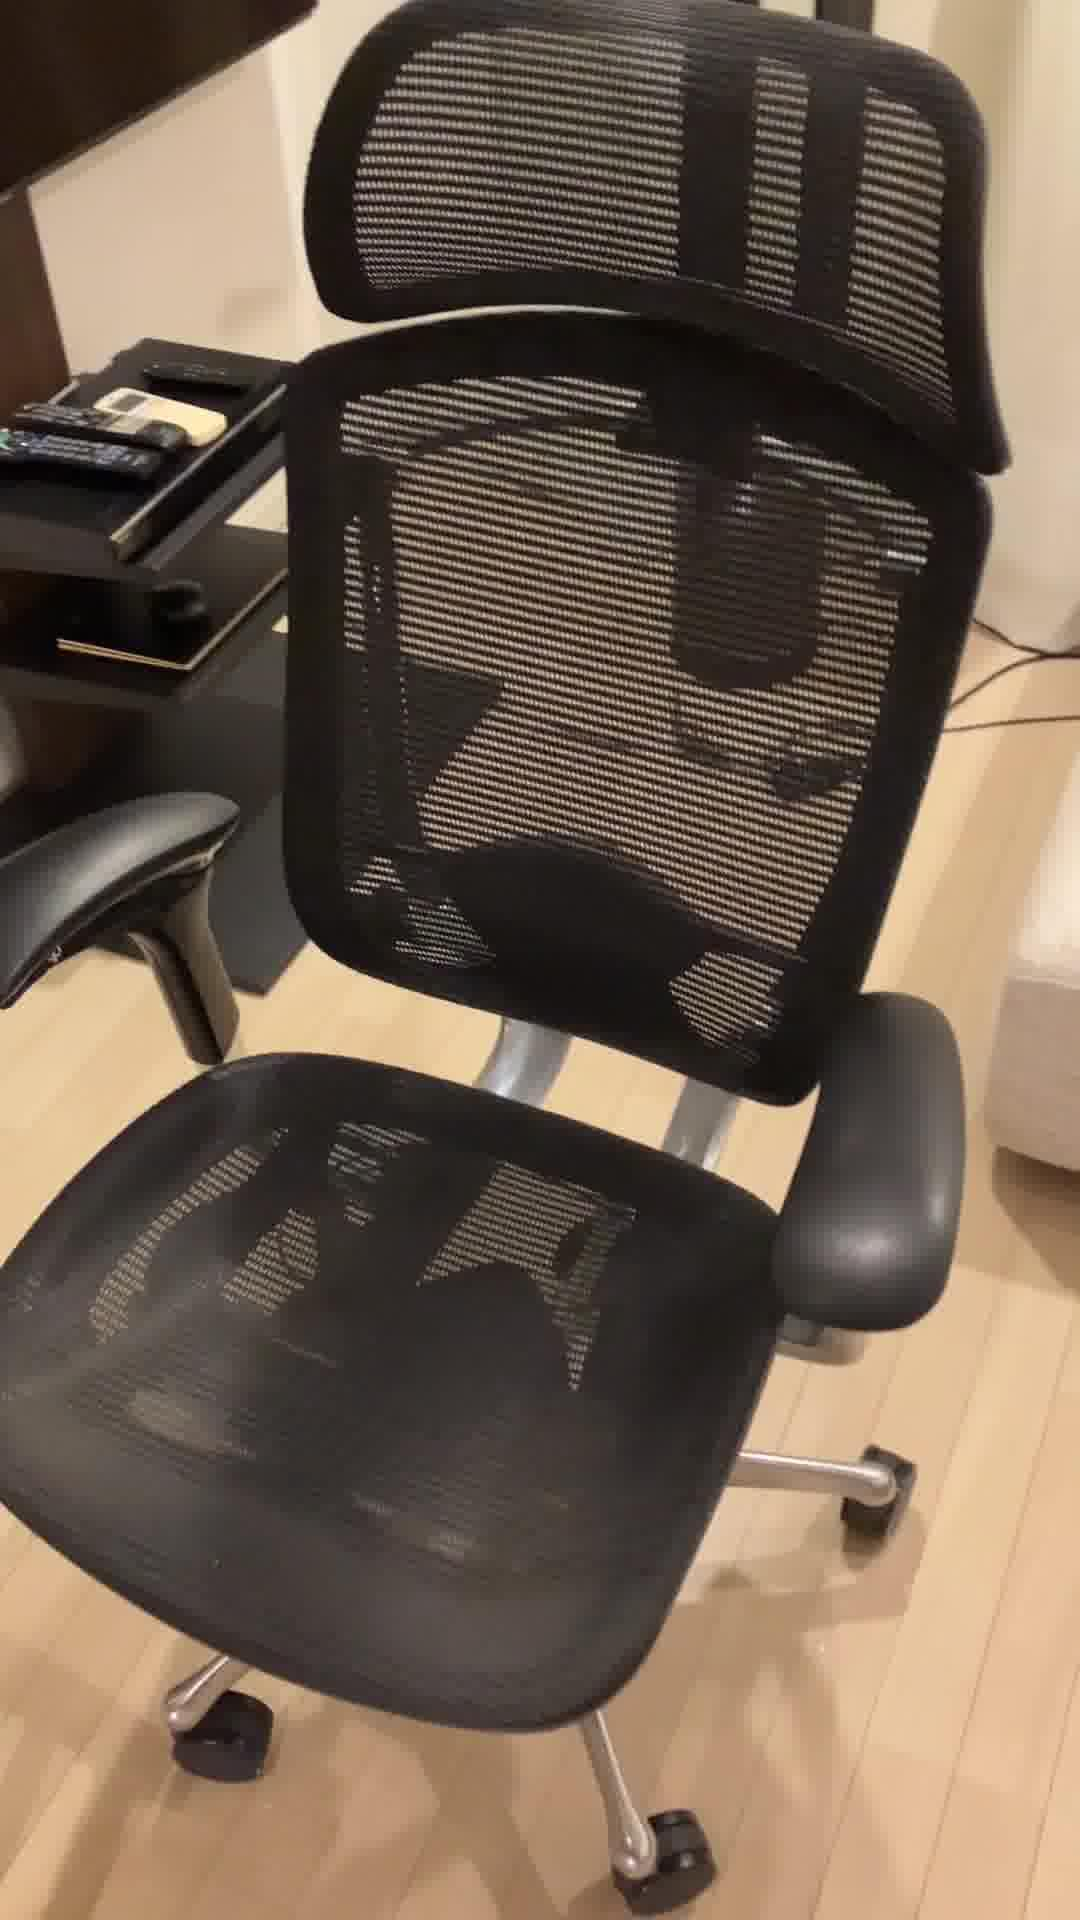okamura-contessa: (0, 0, 1015, 1920)
